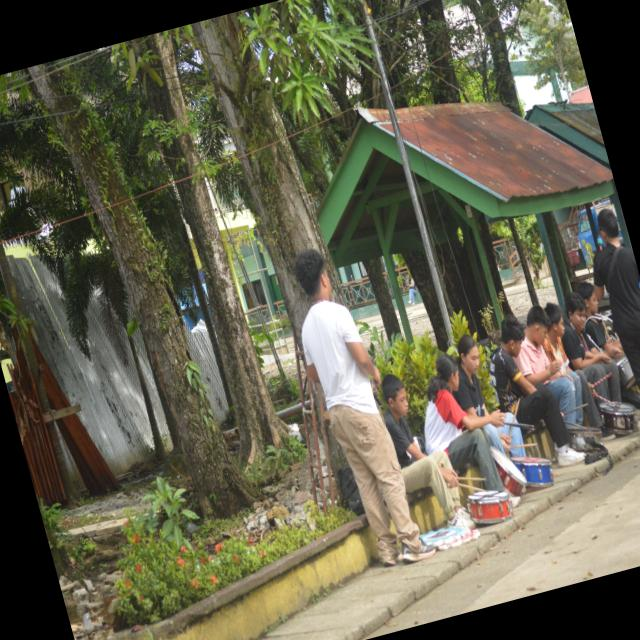person: (294, 250, 434, 566), (489, 315, 584, 466), (381, 375, 474, 529), (424, 354, 504, 492), (453, 335, 524, 457), (593, 209, 639, 390), (514, 306, 581, 422), (543, 303, 601, 429), (562, 293, 620, 402), (576, 281, 621, 360), (406, 277, 416, 304)
